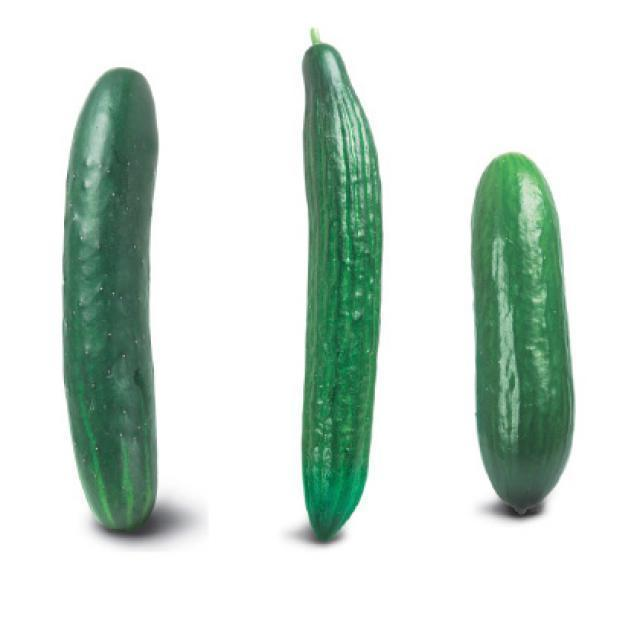cucumber: (60, 62, 166, 536), (294, 38, 386, 549), (464, 149, 578, 518)
